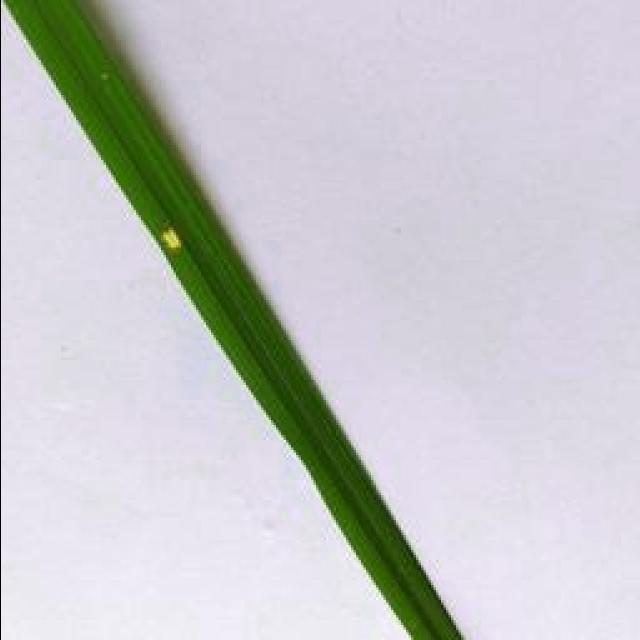Unhealthy: (160, 225, 182, 255)
